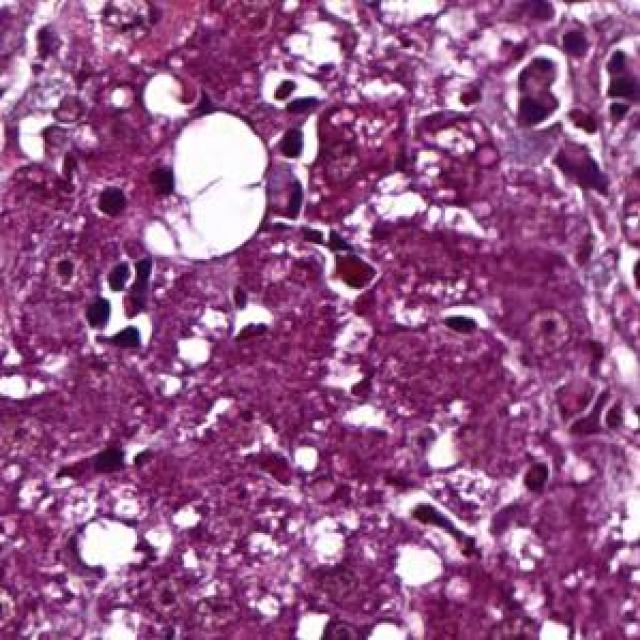ballooning: (143, 103, 274, 263)
